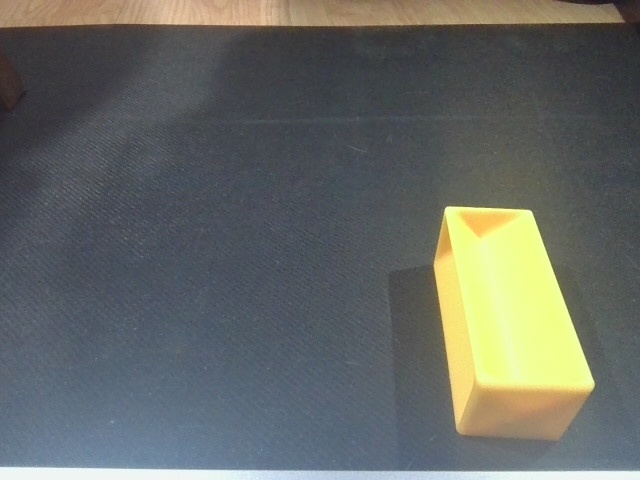YellowSample: (429, 203, 598, 444)
